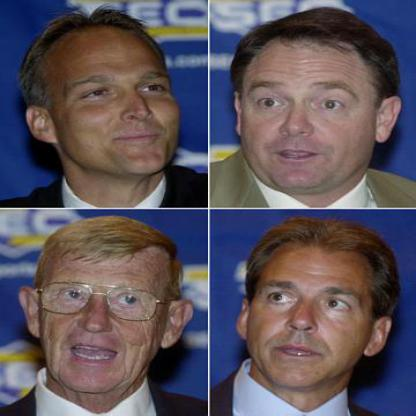face: (238, 17, 382, 194), (44, 19, 182, 185), (38, 225, 169, 395), (249, 224, 377, 391)
